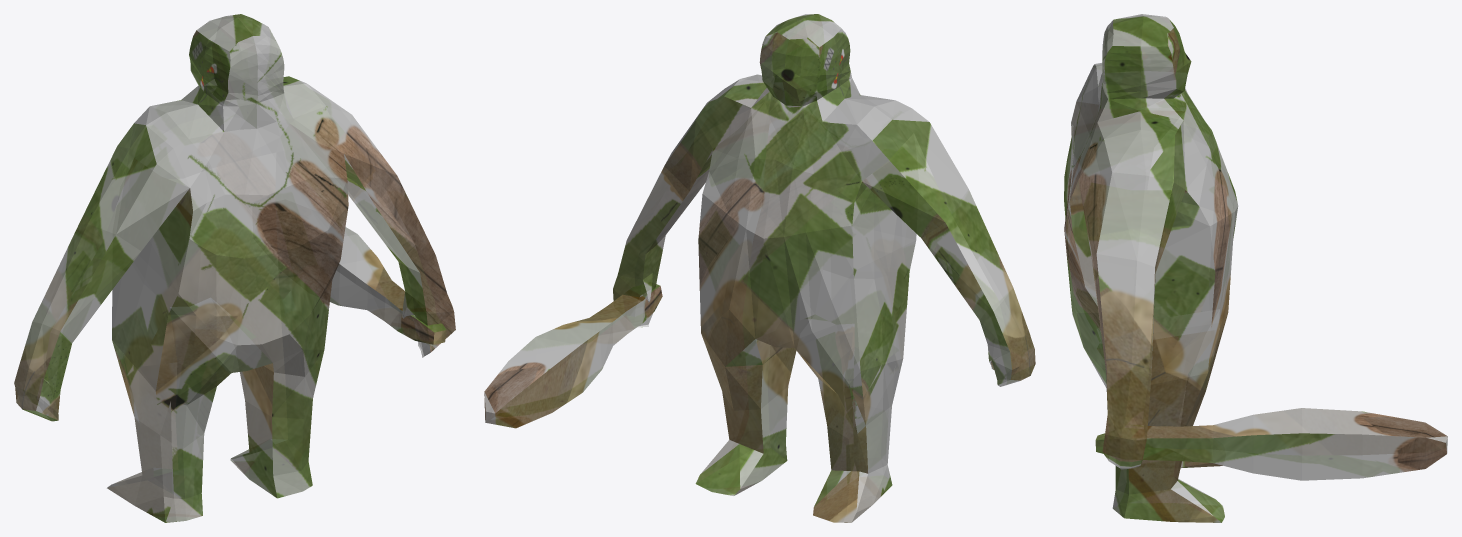
File: Enemigo23.obj
3 views of the same model, side by side, from view 1: azimuth 30°, elevation 25°; view 2: azimuth 150°, elevation 25°; view 3: azimuth 270°, elevation 25° (orthographic). The views are drawn at different scales.
Parts seen in each view (by area): view 1: Cube; view 2: Cube; view 3: Cube.
Boxes of the visible parts, left/top/right/bottom form: Cube: left=14, top=14, right=455, bottom=522; Cube: left=484, top=14, right=1035, bottom=522; Cube: left=1064, top=14, right=1447, bottom=522.
Size of the model in its own units: 2.52 by 2.71 by 1.98.
1 material, 1 textured.
